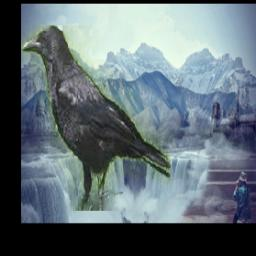Crow: (21, 26, 171, 212)
